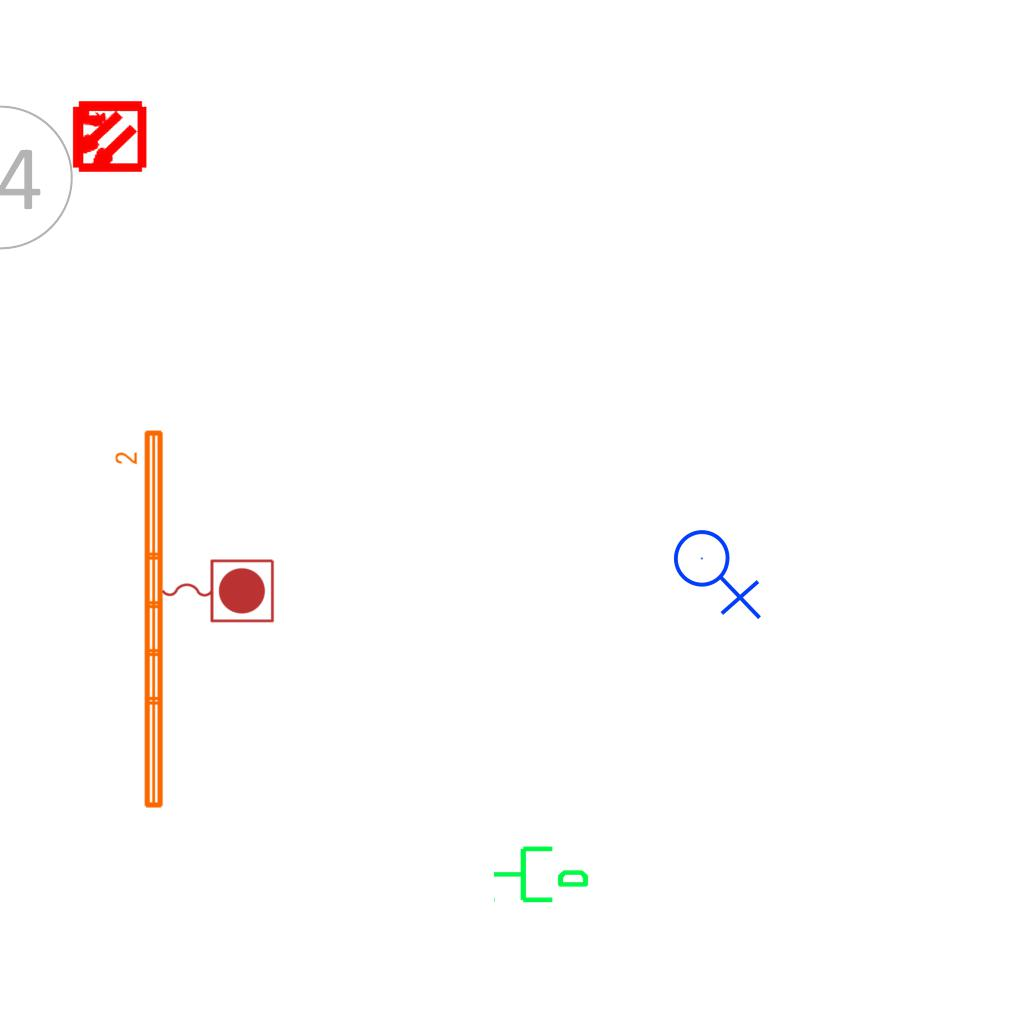Ambulanz_Pendelleuchte_LED: (113, 426, 169, 813)
Datenanschluss_einfach: (491, 838, 591, 907)
Elektroanschluss_allgemein_230V_Geraeteanschlussdose_230V: (672, 521, 766, 620)
OT_Multisensormelder_(Kombination_RMO_WMD): (51, 80, 164, 193)
Zugtaster: (156, 554, 278, 626)
